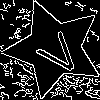V: (29, 24, 86, 80)
